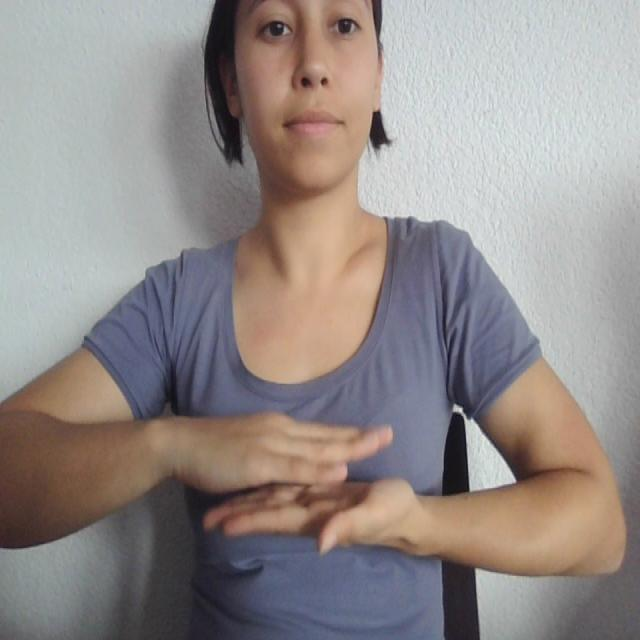Arkadas: (116, 371, 548, 569)
